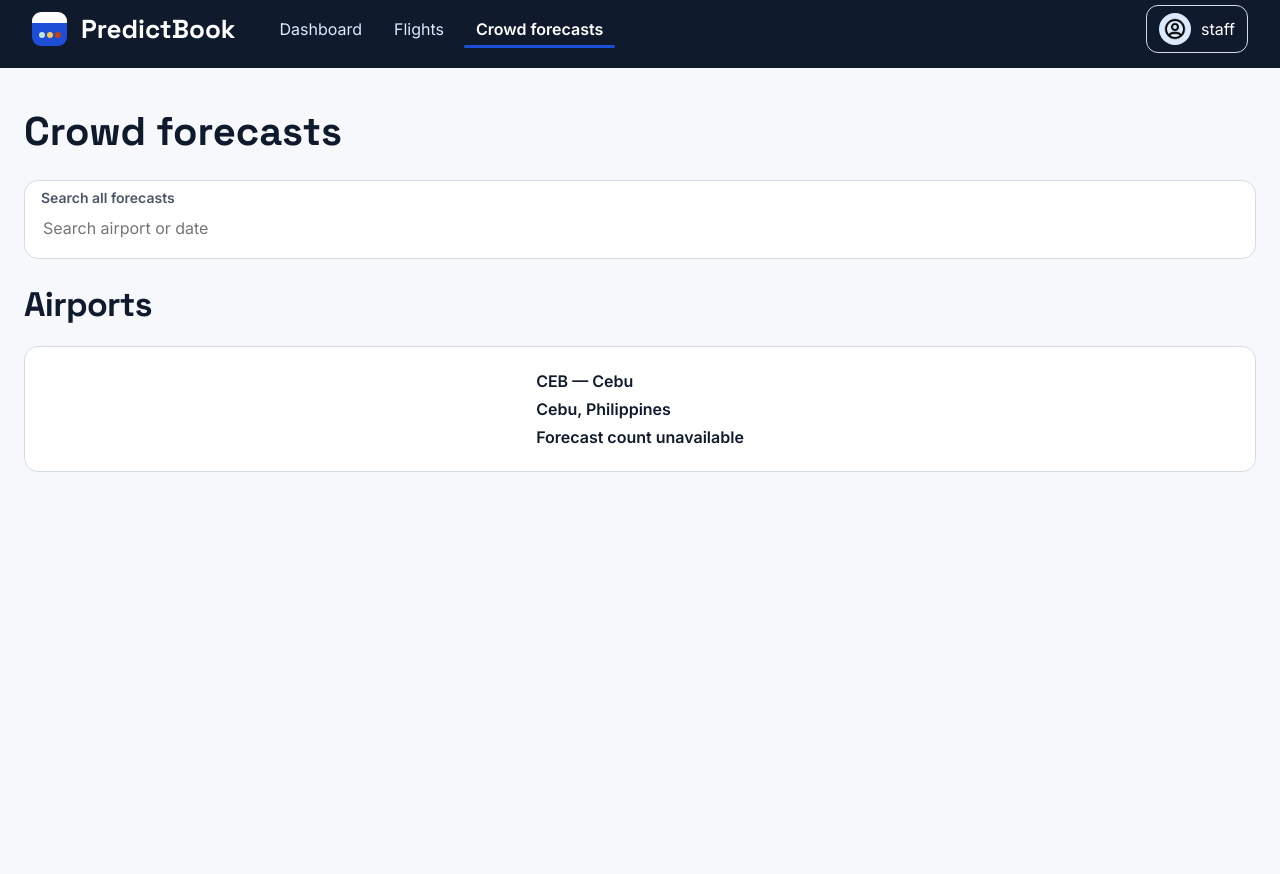
it: keeps the row after a failed delete
Click the button "CEB — Cebu Cebu, Philippines Forecast count unavailable" at (640,409), box 24,346 -> 1256,472
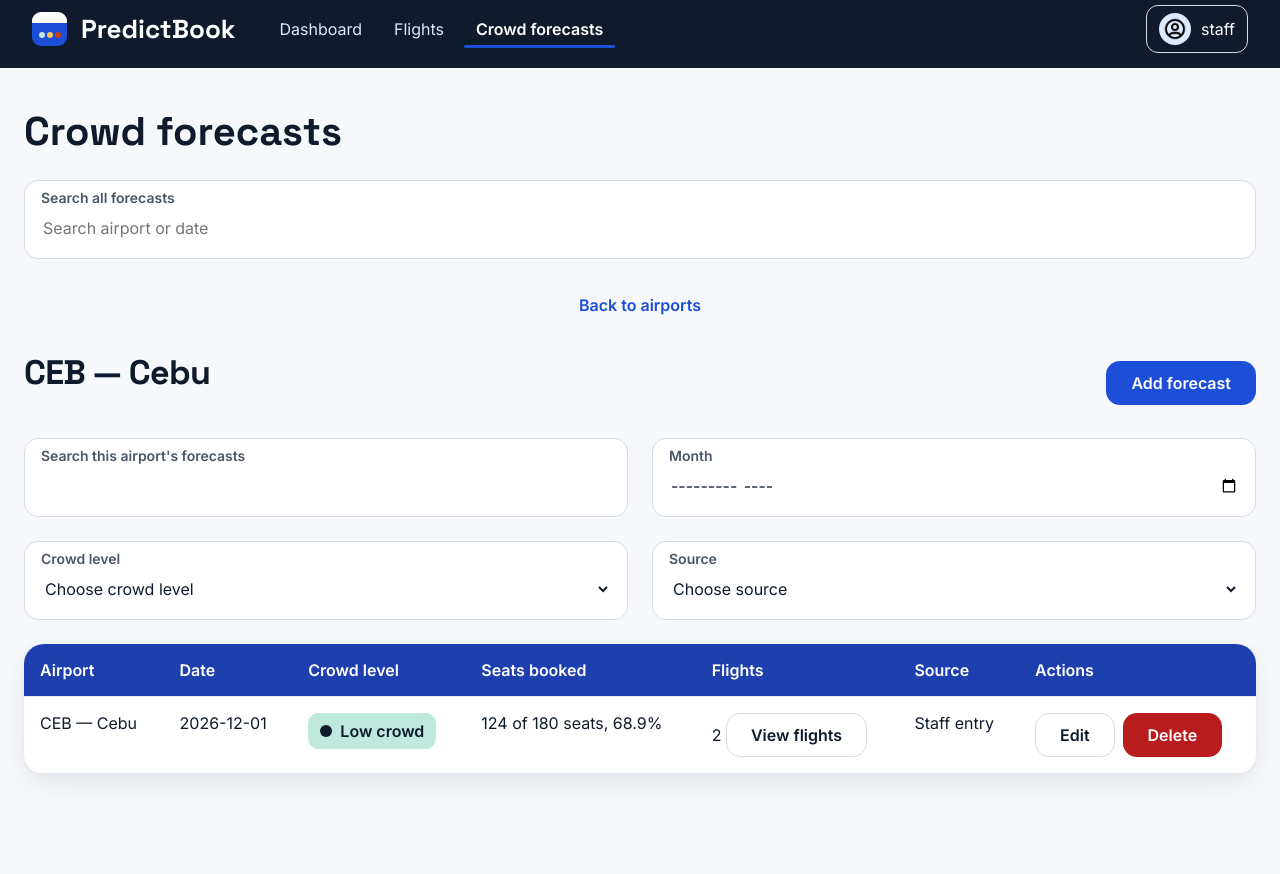
Click the button "Delete" at (1172,735), box 1122,713 -> 1222,757
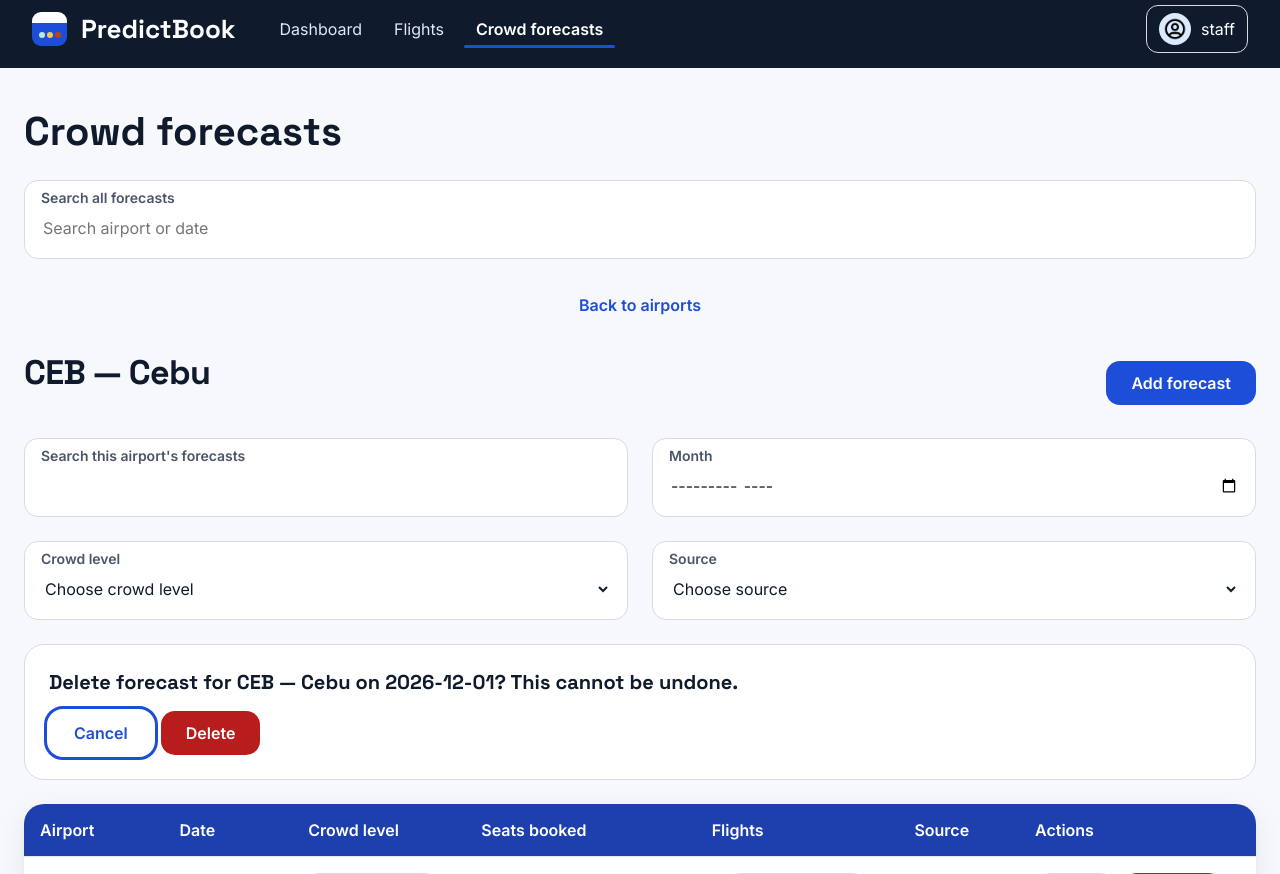
Click the 1st button with class "record-danger" at (210,733), box 161,711 -> 260,755
(page scrolled)
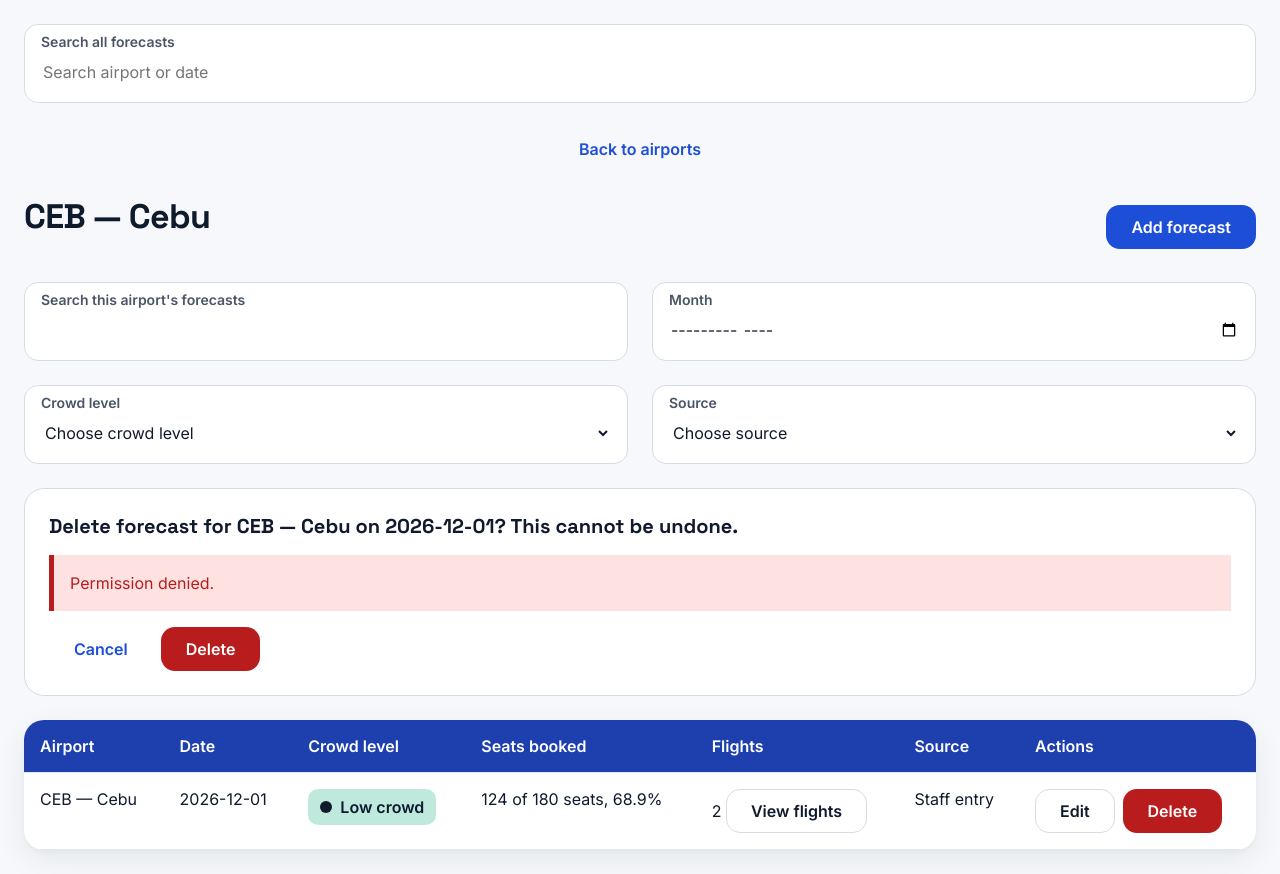
Result: the table shows "CEB" at 40,789 -> 137,809
Result: the message "Permission denied." is shown at 49,555 -> 1231,611
